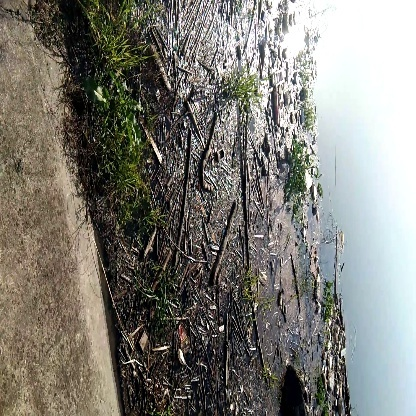branch: (173, 128, 201, 262)
